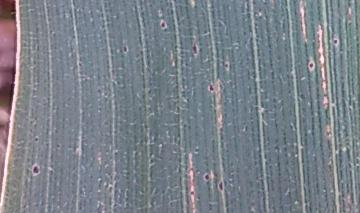tarspot: (189, 35, 202, 60), (28, 162, 42, 180), (200, 168, 214, 186), (306, 56, 318, 74), (215, 176, 226, 195), (158, 16, 170, 32), (206, 80, 217, 96), (330, 34, 341, 50), (121, 41, 130, 58), (222, 58, 232, 73), (31, 132, 42, 145), (188, 188, 197, 200)
